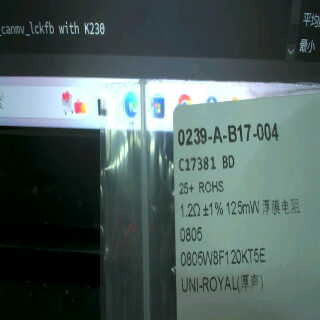1.2R: (178, 199, 201, 248)
